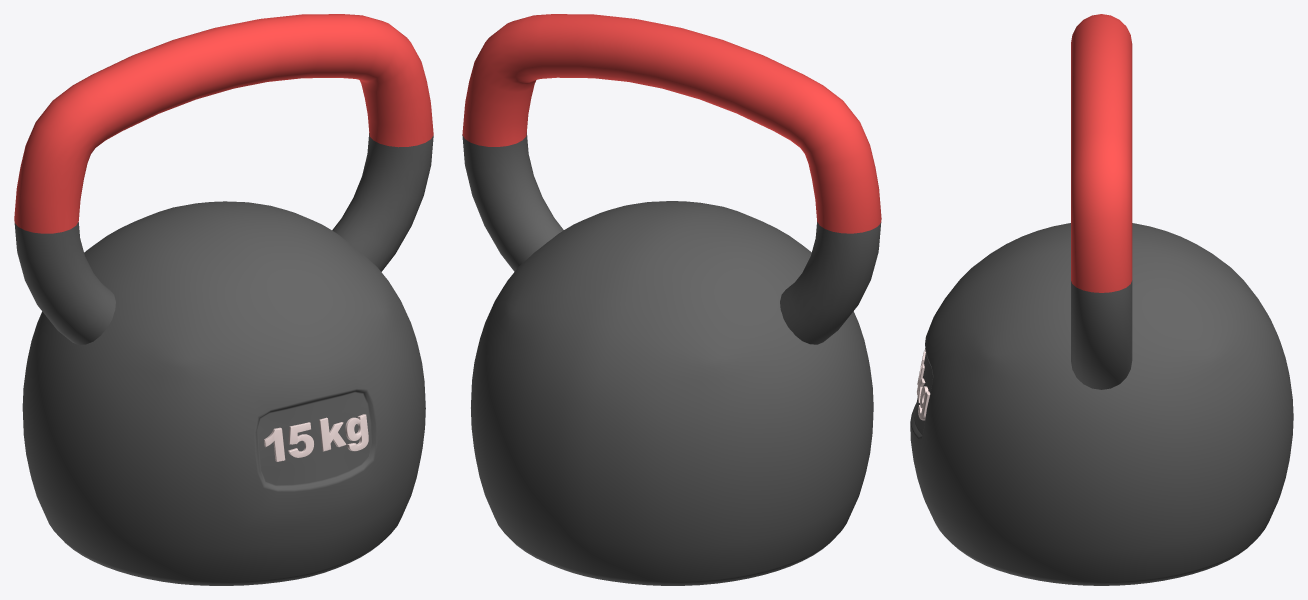
File: Public_18_Kettlebell_1.glb
The picture shows the model from 3 angles, left to right: view 1: azimuth 30°, elevation 25°; view 2: azimuth 150°, elevation 25°; view 3: azimuth 270°, elevation 25°; orthographic projection. The views are drawn at different scales.
Parts seen in each view (by area): view 1: Public_18_Kettlebell_1; view 2: Public_18_Kettlebell_1; view 3: Public_18_Kettlebell_1.
Part boxes in pixels (<box>): Public_18_Kettlebell_1: <box>14,14,433,585</box>; Public_18_Kettlebell_1: <box>462,14,881,585</box>; Public_18_Kettlebell_1: <box>910,14,1293,585</box>.
Bounding box in the file's own units: 1.72 × 1.94 × 1.47.
1 material, 1 textured.
